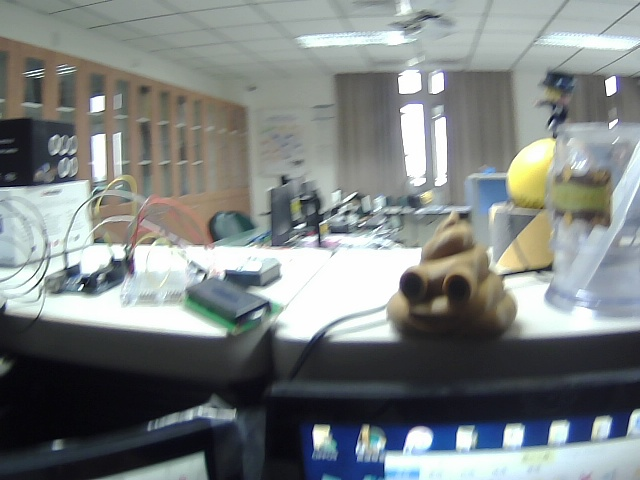shit: (379, 206, 530, 348)
